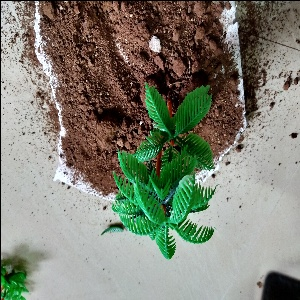plant: (110, 86, 210, 252)
